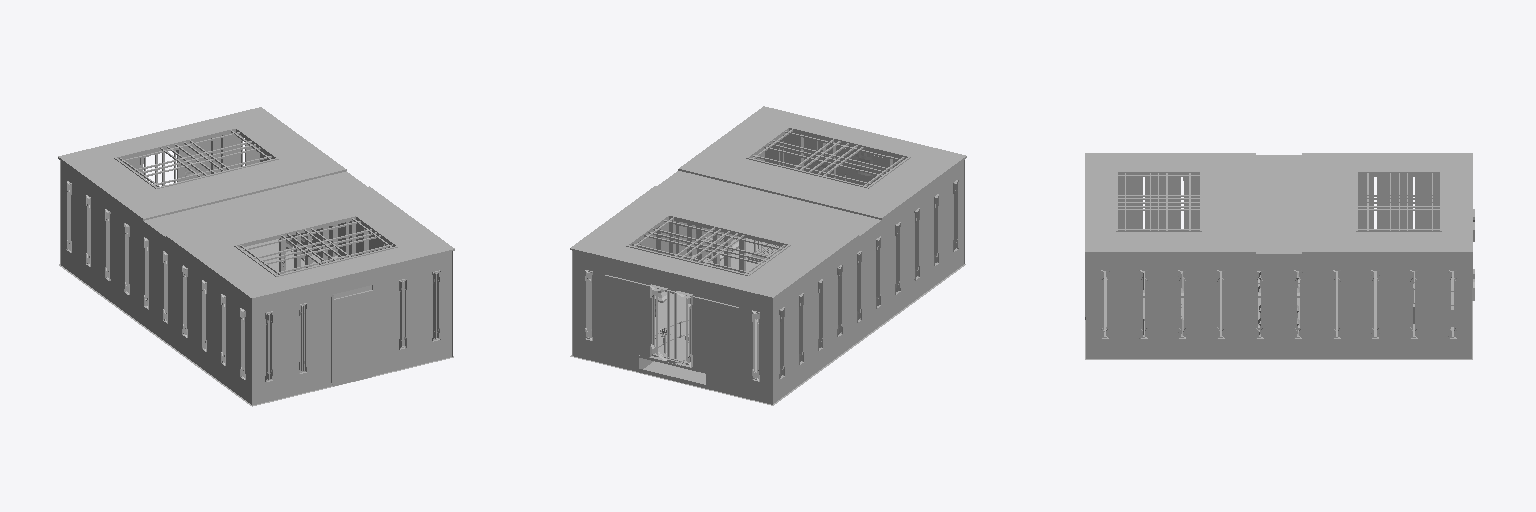
The model's file is MZAopt.obj.
The picture shows the model from 3 angles: view 1: azimuth 30°, elevation 25°; view 2: azimuth 150°, elevation 25°; view 3: azimuth 270°, elevation 25°; orthographic projection.
Visible parts, largest first — view 1: Lampe_4.MDL.Ski; view 2: Lampe_4.MDL.Ski; view 3: Lampe_4.MDL.Ski.
Boxes of the visible parts, <box> form: Lampe_4.MDL.Ski: <box>58,107,454,406</box>; Lampe_4.MDL.Ski: <box>570,106,966,405</box>; Lampe_4.MDL.Ski: <box>1085,153,1474,359</box>.
Size of the model in its own units: 912 by 468 by 1516.